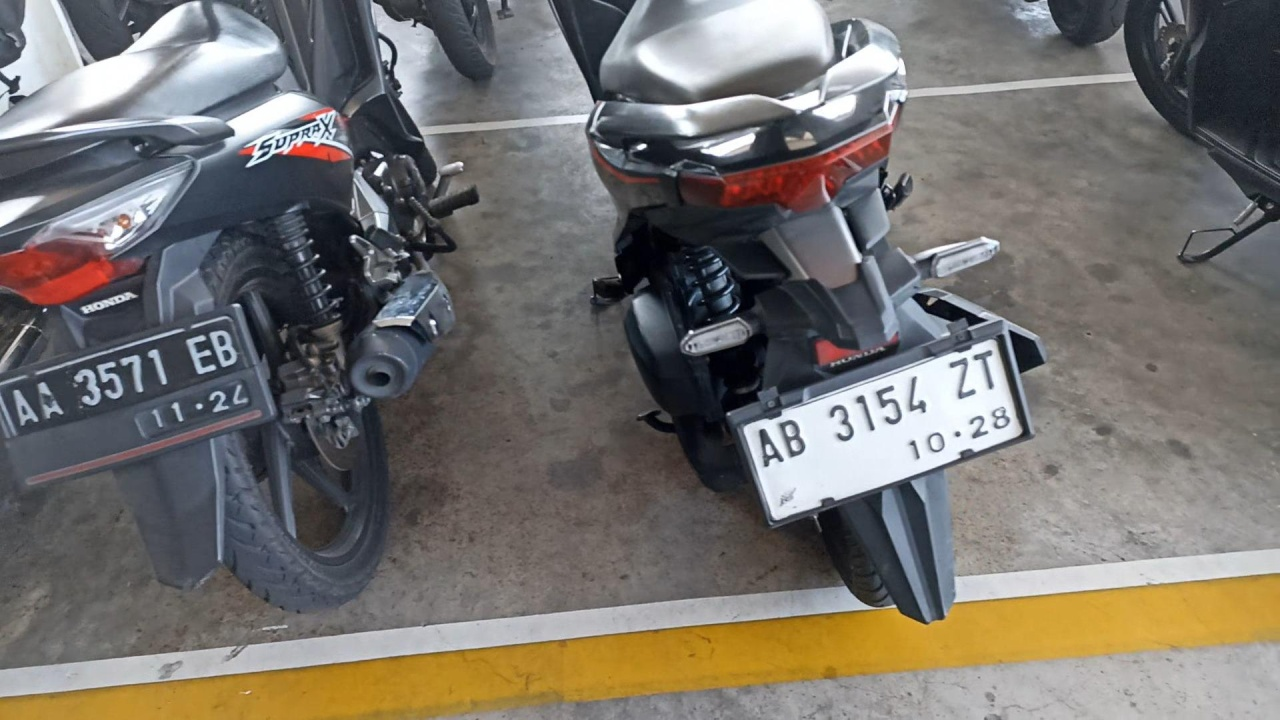plate: (738, 325, 1031, 526), (0, 307, 270, 491)
